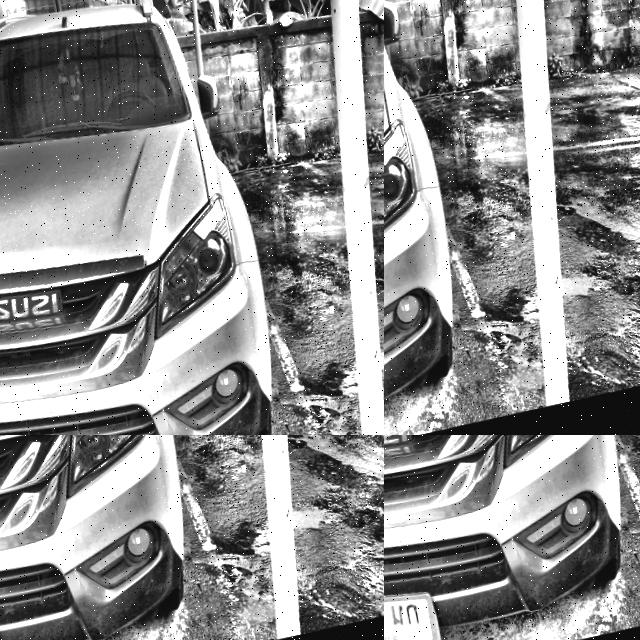license-plate: (384, 579, 446, 640)
